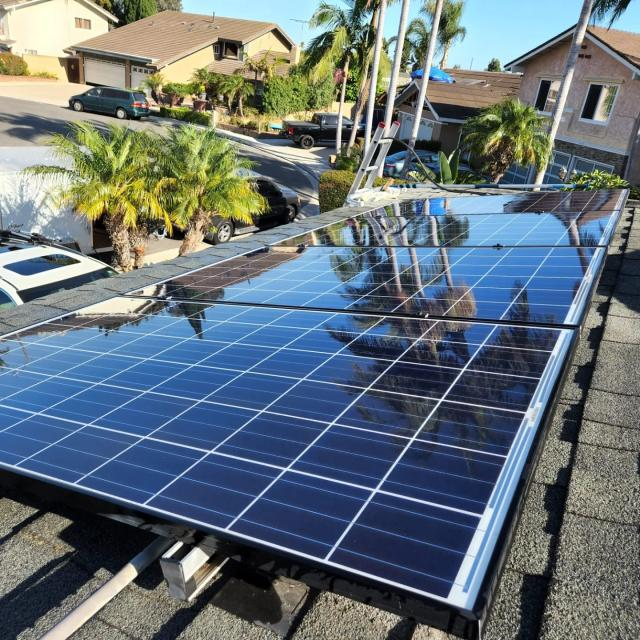clean-solar-panel: (0, 192, 625, 638)
